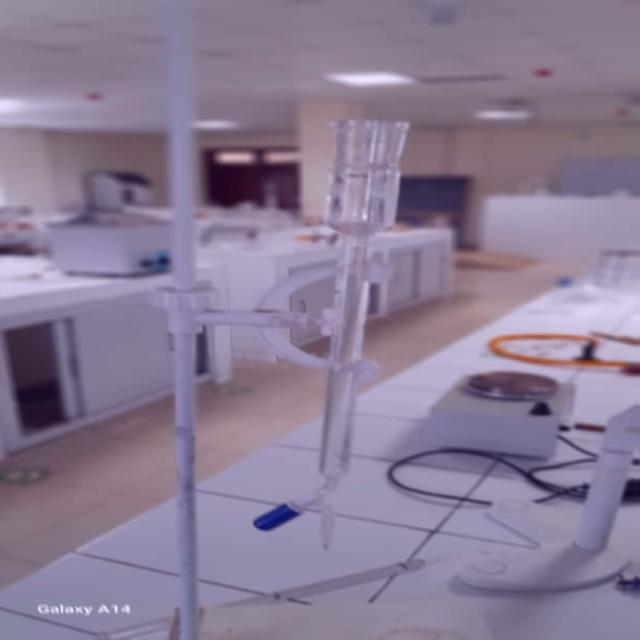Column Chromatography: (256, 115, 429, 572)
